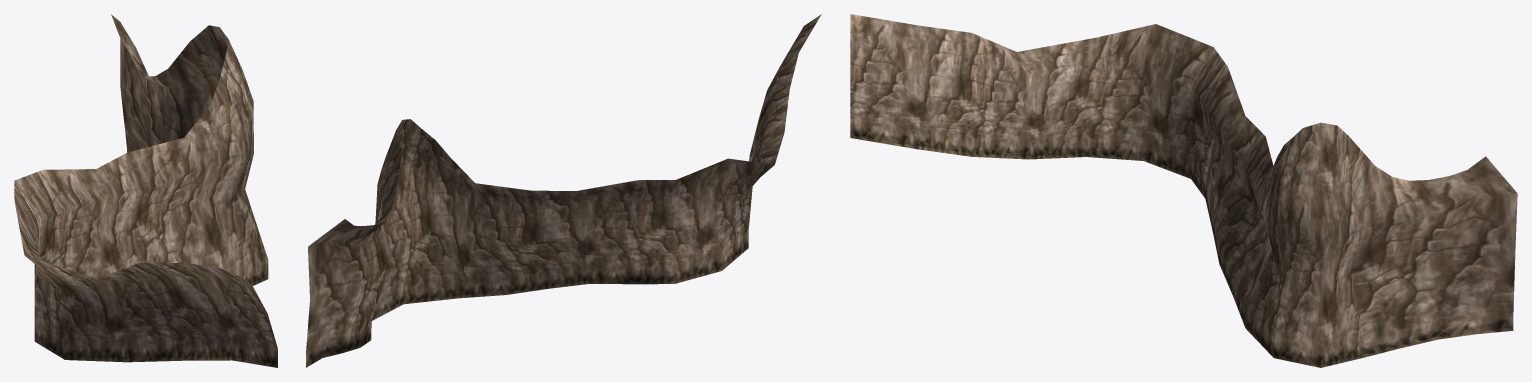
The model's file is OVERHILL_A_01_LINE19.fbx.
The picture shows the model from 3 angles, left to right: view 1: azimuth 30°, elevation 25°; view 2: azimuth 150°, elevation 25°; view 3: azimuth 270°, elevation 25°; orthographic projection. The views are drawn at different scales.
Parts seen in each view (by area): view 1: OVERHILL_A_01_LINE19; view 2: OVERHILL_A_01_LINE19; view 3: OVERHILL_A_01_LINE19.
Boxes of the visible parts, x1=… form: OVERHILL_A_01_LINE19: x1=14, y1=14, x2=277, y2=367; OVERHILL_A_01_LINE19: x1=306, y1=14, x2=821, y2=367; OVERHILL_A_01_LINE19: x1=850, y1=14, x2=1517, y2=367.
Bounding box in the file's own units: 109794 × 72897 × 192517.
Materials: 2 (2 with a texture image).
